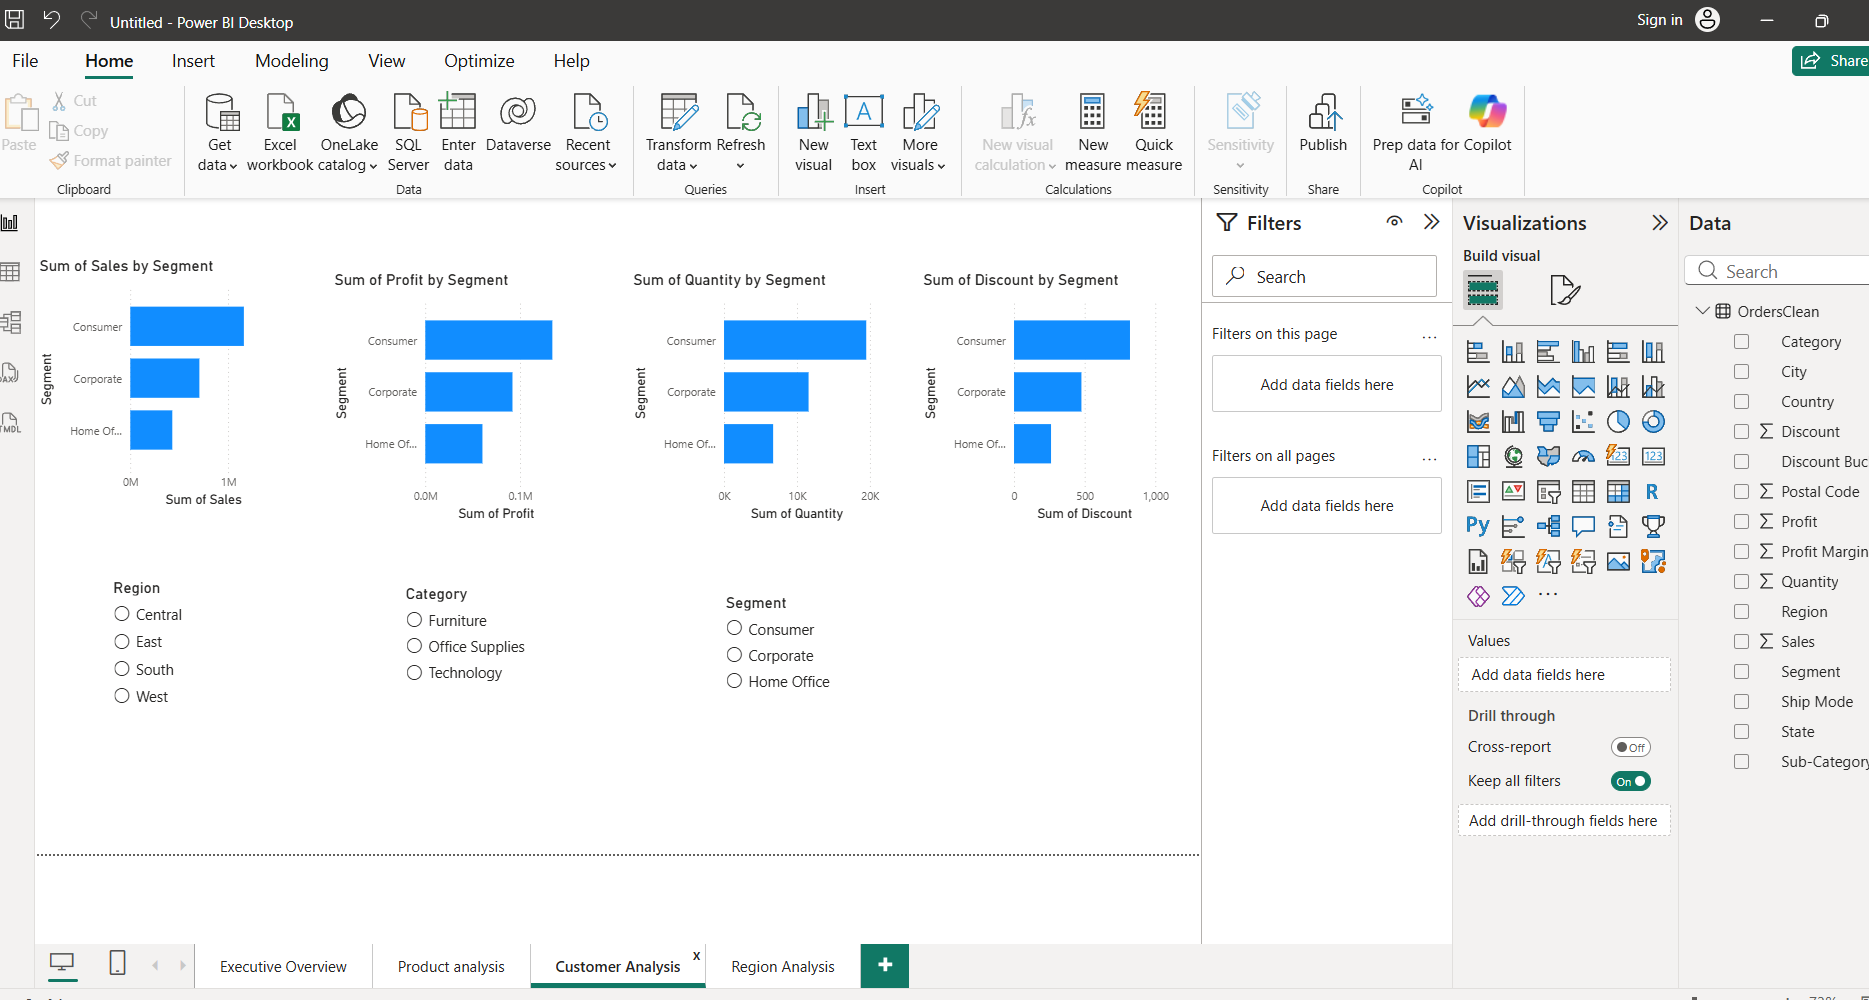

The page's visual inventory and layout, read from the dashboard file:
{"tool":"powerbi","page":{"name":"Customer Analysis","canvas":[1280,720],"ordinal":2},"visuals":[{"type":"clusteredBarChart","fields":{"Category":["OrdersClean.Segment"],"Y":["Sum(OrdersClean.Sales)"]},"box":[0,64.5,279.9,279.9],"z":0},{"type":"clusteredBarChart","fields":{"Category":["OrdersClean.Segment"],"Y":["Sum(OrdersClean.Profit)"]},"box":[323.8,79.6,279.9,279.9],"z":1000},{"type":"clusteredBarChart","fields":{"Category":["OrdersClean.Segment"],"Y":["Sum(OrdersClean.Quantity)"]},"box":[651.8,79.6,279.9,279.9],"z":2000},{"type":"clusteredBarChart","fields":{"Category":["OrdersClean.Segment"],"Y":["Sum(OrdersClean.Discount)"]},"box":[970.2,79.6,279.9,279.9],"z":3000},{"type":"slicer","title":"Segment Slicer","fields":{"Values":["OrdersClean.Segment"]},"box":[101.5,400.7,252.5,260.7],"z":3001},{"type":"slicer","title":"Region Slicer","fields":{"Values":["OrdersClean.Region"]},"box":[389.7,400.7,279.9,260.7],"z":3002},{"type":"slicer","title":"Category Slicer","fields":{"Values":["OrdersClean.Category"]},"box":[727.3,400.7,279.9,260.7],"z":3003}]}

Visuals, with their boxes on the page's 1280x720 design canvas (x1, y1, x2, y2). These are canvas units, not pixel positions in the 1869x1000 screenshot, which may show the page scaled, cropped or inside an application window:
clusteredBarChart - OrdersClean.Segment x Sum(OrdersClean.Sales): 0:64:280:344
clusteredBarChart - OrdersClean.Segment x Sum(OrdersClean.Profit): 324:80:604:360
clusteredBarChart - OrdersClean.Segment x Sum(OrdersClean.Quantity): 652:80:932:360
clusteredBarChart - OrdersClean.Segment x Sum(OrdersClean.Discount): 970:80:1250:360
"Segment Slicer" slicer: 102:401:354:661
"Region Slicer" slicer: 390:401:670:661
"Category Slicer" slicer: 727:401:1007:661
